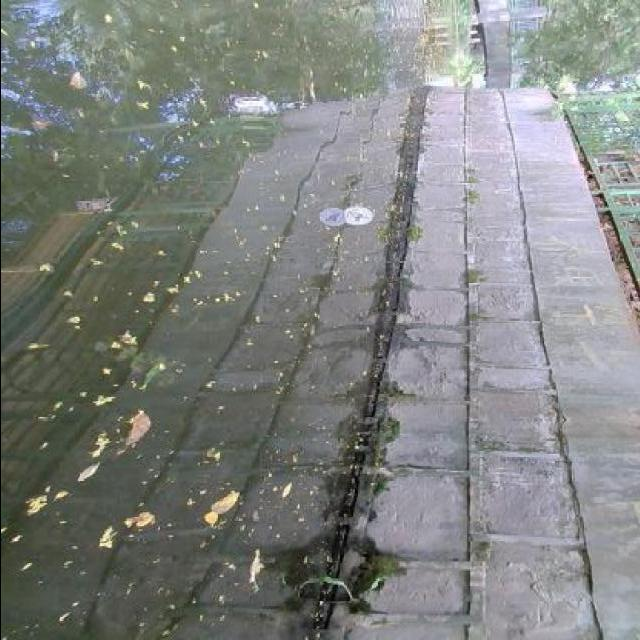Bottle: (333, 200, 381, 234)
